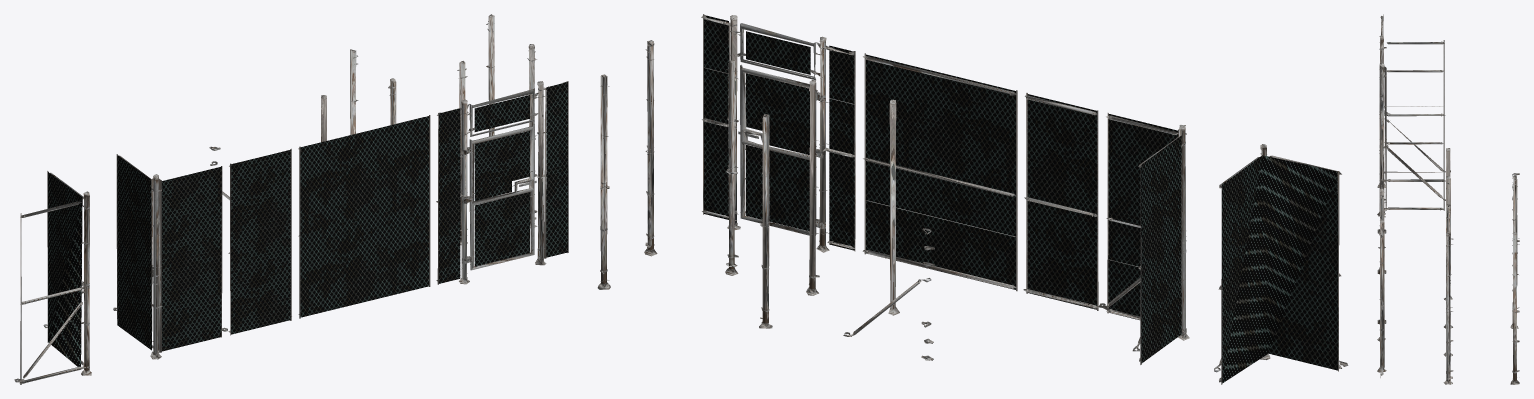
The model's file is modular_chainlink_fence.glb.
The picture shows the model from 3 angles, left to right: view 1: azimuth 30°, elevation 25°; view 2: azimuth 150°, elevation 25°; view 3: azimuth 270°, elevation 25°; orthographic projection. The views are drawn at different scales.
Visible parts, largest first — view 1: modular_chainlink_fence_double, modular_chainlink_fence_corner_outer, modular_chainlink_fence_door_frame, modular_chainlink_fence, modular_chainlink_fence_door_gate, modular_chainlink_fence_corner_inner, modular_chainlink_fence_start_01_corner_02, modular_chainlink_post_middle, modular_chainlink_fence_end_02, modular_chainlink_fence_start_01_corner_01; view 2: modular_chainlink_fence_double, modular_chainlink_fence_corner_inner, modular_chainlink_fence_corner_outer, modular_chainlink_fence_door_frame, modular_chainlink_fence, modular_chainlink_fence_door_gate, modular_chainlink_fence_end_02, modular_chainlink_fence_start_01_corner_02, modular_chainlink_post_middle, modular_chainlink_fence_start_01_corner_01, modular_chainlink_fence_end_01, modular_chainlink_fence_post; view 3: modular_chainlink_fence_corner_outer, modular_chainlink_fence_door_frame, modular_chainlink_fence_corner_inner, modular_chainlink_fence_start_01_corner_01, modular_chainlink_fence_start_01_corner_02, modular_chainlink_fence_end_02, modular_chainlink_post_middle, modular_chainlink_fence_double, modular_chainlink_fence_post, modular_chainlink_fence_end_01.
Part boxes in pixels (x1,y1,x2,y2): modular_chainlink_fence_double: (298, 115, 430, 318); modular_chainlink_fence_corner_outer: (113, 154, 227, 359); modular_chainlink_fence_door_frame: (436, 81, 568, 284); modular_chainlink_fence: (228, 148, 291, 335); modular_chainlink_fence_door_gate: (469, 123, 535, 270); modular_chainlink_fence_corner_inner: (14, 171, 91, 384); modular_chainlink_fence_start_01_corner_02: (486, 14, 494, 196); modular_chainlink_post_middle: (457, 61, 468, 245); modular_chainlink_fence_end_02: (350, 49, 358, 134); modular_chainlink_fence_start_01_corner_01: (527, 44, 537, 228); modular_chainlink_fence_double: (862, 53, 1017, 291); modular_chainlink_fence_corner_inner: (1214, 144, 1348, 384); modular_chainlink_fence_corner_outer: (1098, 113, 1189, 364); modular_chainlink_fence_door_frame: (701, 14, 855, 252); modular_chainlink_fence: (1023, 93, 1098, 310); modular_chainlink_fence_door_gate: (740, 64, 816, 235); modular_chainlink_fence_end_02: (759, 114, 772, 328); modular_chainlink_fence_start_01_corner_02: (597, 74, 610, 289); modular_chainlink_post_middle: (725, 60, 738, 275); modular_chainlink_fence_start_01_corner_01: (644, 40, 657, 256); modular_chainlink_fence_end_01: (806, 80, 819, 295); modular_chainlink_fence_post: (888, 99, 899, 315); modular_chainlink_fence_corner_outer: (1377, 63, 1445, 234); modular_chainlink_fence_door_frame: (1377, 183, 1386, 377); modular_chainlink_fence_corner_inner: (1377, 14, 1450, 187); modular_chainlink_fence_start_01_corner_01: (1443, 232, 1453, 384); modular_chainlink_fence_start_01_corner_02: (1510, 232, 1519, 384); modular_chainlink_fence_end_02: (1510, 176, 1518, 328); modular_chainlink_post_middle: (1443, 204, 1452, 356); modular_chainlink_fence_double: (1380, 126, 1383, 182); modular_chainlink_fence_post: (1444, 148, 1452, 300); modular_chainlink_fence_end_01: (1444, 175, 1452, 328).
Size of the model in its own units: 8.1 by 2.52 by 2.15.
Materials: 2 (2 with a texture image).
